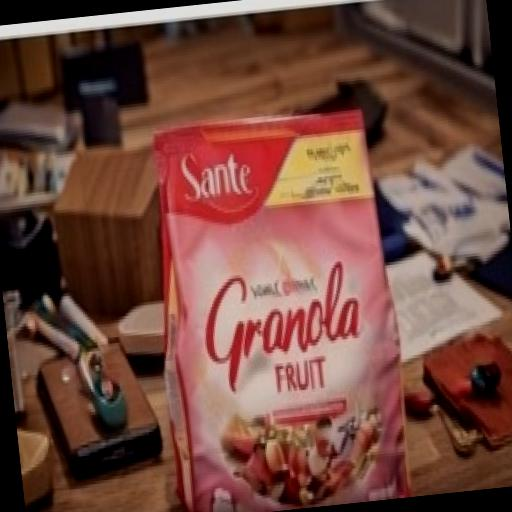granola: (118, 89, 441, 512)
